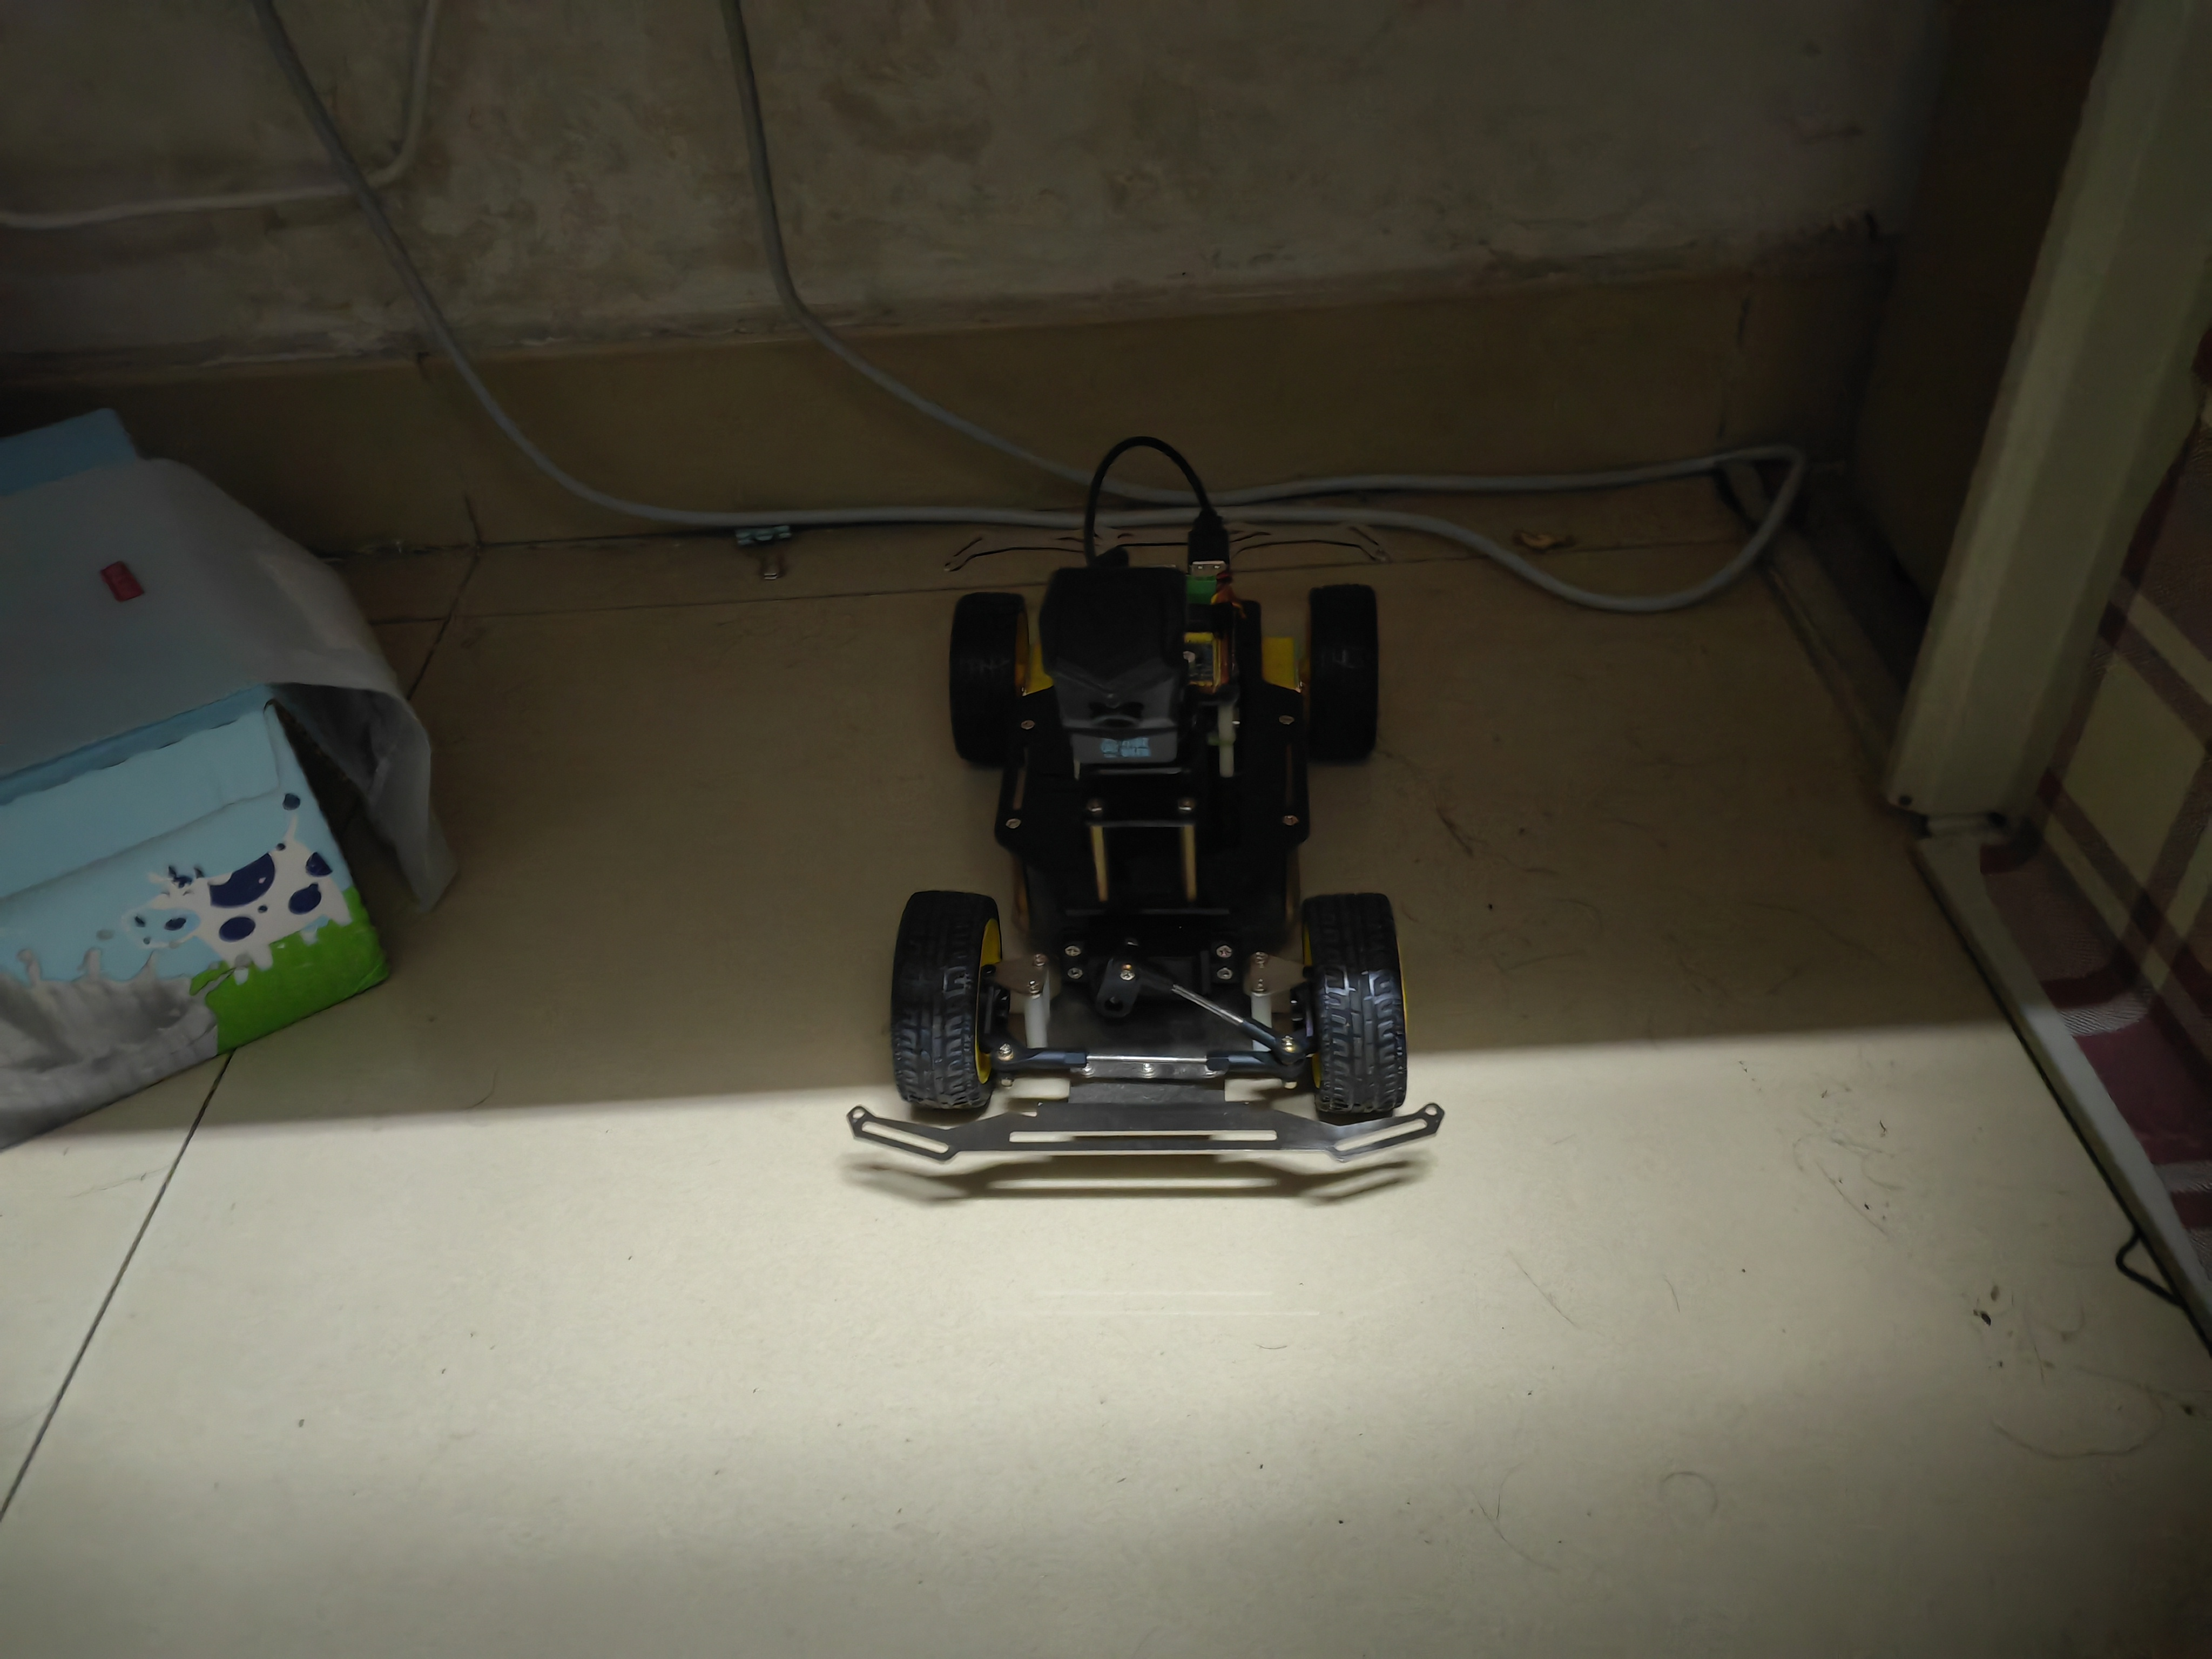car: (845, 410, 1480, 1229)
